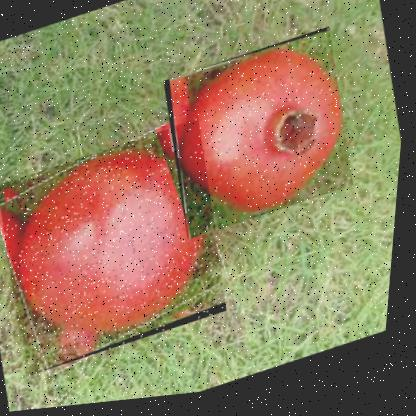pomegranate: (0, 120, 245, 382), (154, 30, 368, 247)
